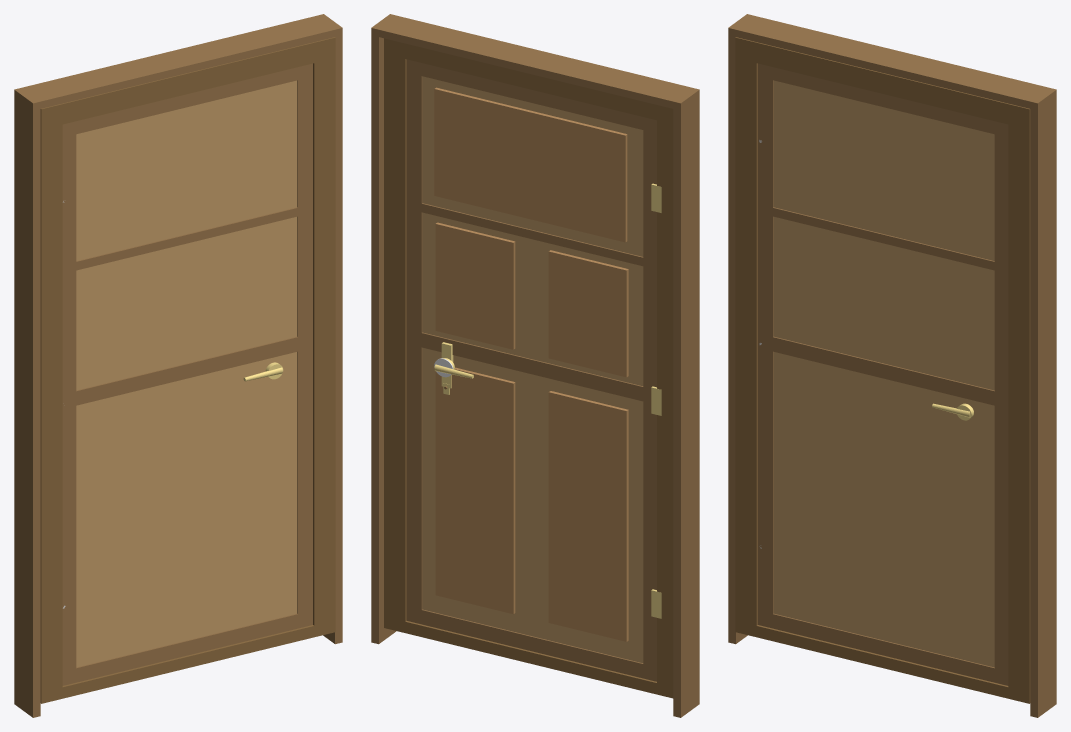
File: porta.glb
3 views of the same model, side by side, from view 1: azimuth 30°, elevation 25°; view 2: azimuth 150°, elevation 25°; view 3: azimuth 330°, elevation 25° (orthographic).
Visible parts, largest first — view 1: Door_Body, Mold_L, Fr_L, Fr_R, B_Right, Mold_T, B_Left, Fr_T, Mold_R, B_Bot, Fr_Sill, B_MidH (+2 smaller); view 2: Door_Body, Pan_MR.001, Pan_BL, Pan_BR, Mold_L, Fr_R, Fr_L, B_Right, Pan_ML, Pan_MR, Mold_T, Mold_R (+7 smaller); view 3: Door_Body, Mold_R, Fr_R, Fr_L, B_Left, B_Right, Mold_T, Fr_T, Mold_L, Fr_Sill, B_Bot, B_MidH (+2 smaller).
Part boxes in pixels (bbox=[...]): Door_Body: bbox=[76, 80, 297, 667]; Mold_L: bbox=[14, 93, 40, 717]; Fr_L: bbox=[40, 104, 62, 692]; Fr_R: bbox=[313, 37, 335, 625]; B_Right: bbox=[297, 64, 312, 628]; Mold_T: bbox=[14, 14, 342, 109]; B_Left: bbox=[62, 121, 76, 684]; Fr_T: bbox=[40, 38, 335, 128]; Mold_R: bbox=[323, 31, 342, 644]; B_Bot: bbox=[62, 611, 312, 685]; Fr_Sill: bbox=[40, 621, 335, 703]; B_MidH: bbox=[63, 333, 312, 408]; Door_Body: bbox=[422, 76, 643, 662]; Pan_MR.001: bbox=[434, 87, 627, 242]; Pan_BL: bbox=[548, 391, 628, 641]; Pan_BR: bbox=[435, 367, 515, 614]; Mold_L: bbox=[673, 93, 699, 717]; Fr_R: bbox=[384, 38, 406, 621]; Fr_L: bbox=[657, 105, 673, 686]; B_Right: bbox=[406, 60, 422, 623]; Pan_ML: bbox=[548, 250, 628, 377]; Pan_MR: bbox=[435, 222, 515, 349]; Mold_T: bbox=[371, 14, 699, 108]; Mold_R: bbox=[371, 31, 396, 644]; Door_Body: bbox=[773, 80, 994, 667]; Mold_R: bbox=[1030, 93, 1056, 717]; Fr_R: bbox=[1008, 104, 1030, 692]; Fr_L: bbox=[735, 37, 757, 625]; B_Left: bbox=[758, 64, 773, 627]; B_Right: bbox=[994, 121, 1008, 685]; Mold_T: bbox=[728, 14, 1056, 110]; Fr_T: bbox=[735, 37, 1029, 129]; Mold_L: bbox=[728, 31, 747, 644]; Fr_Sill: bbox=[735, 621, 1030, 703]; B_Bot: bbox=[758, 611, 1006, 685]; B_MidH: bbox=[758, 335, 1007, 408].
Size of the model in its own units: 2.87 by 5.45 by 0.3867.
